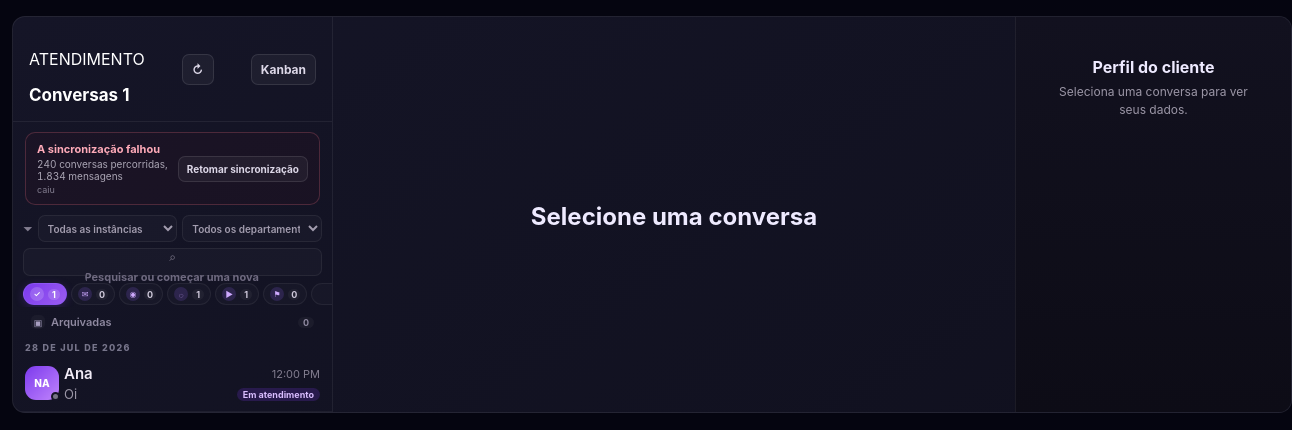
Test: a faixa de progresso da sincronização › diz que foi você quem retomou quando o clique partiu daqui
The width and height of the screenshot is (1292, 430).
Click the button "Retomar sincronização": (243, 168) x1=178 y1=156 x2=308 y2=182
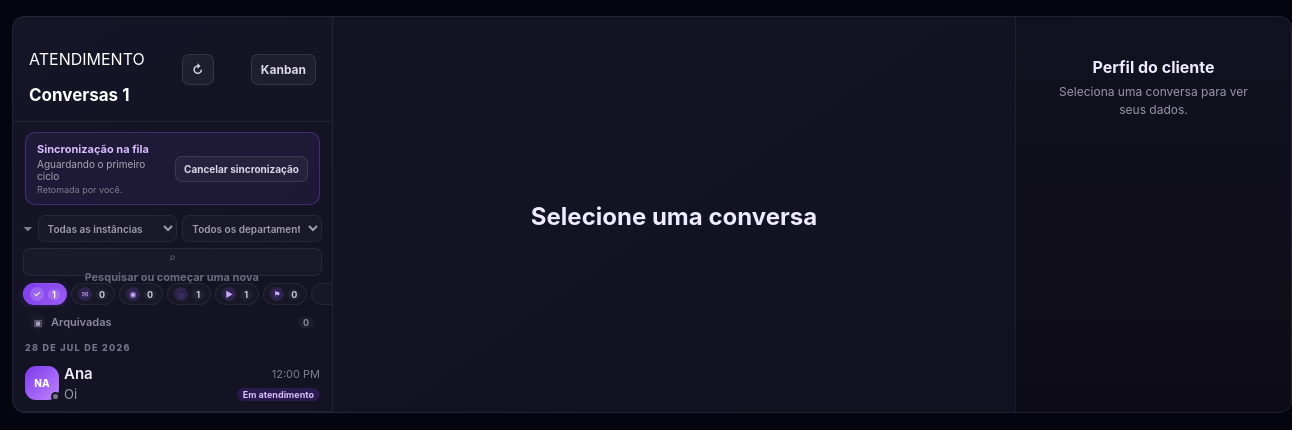
Expected: the text "Retomada por você." is shown, x1=37 y1=184 x2=122 y2=195
